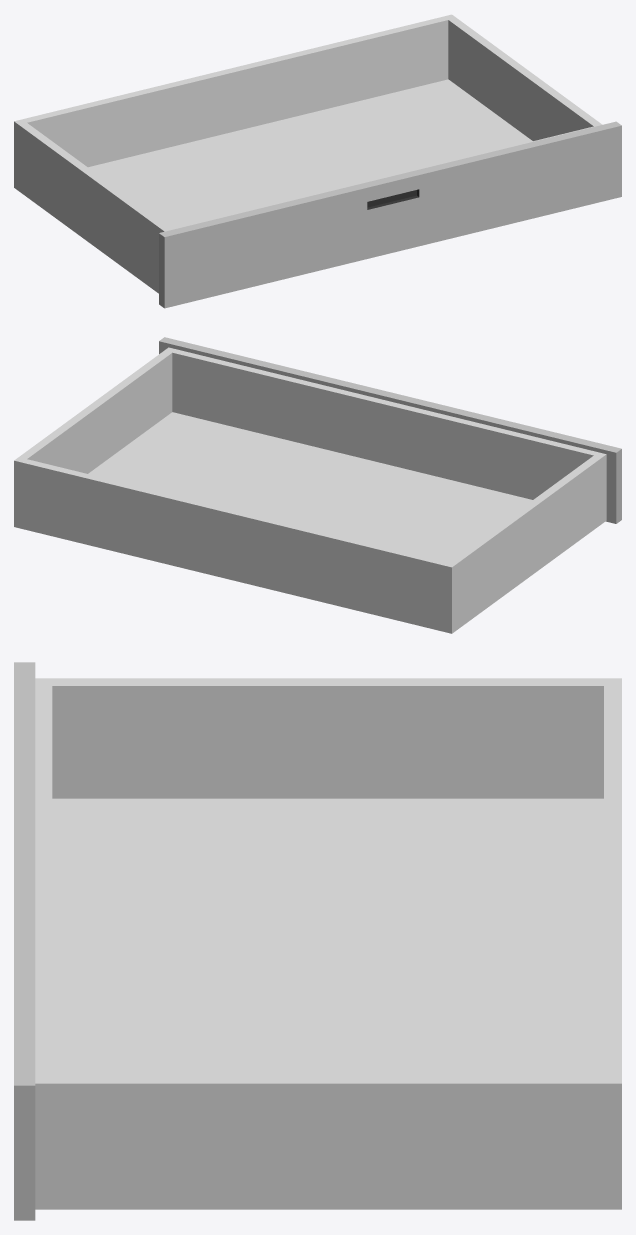
The model's file is PC_Table2_C1_02.fbx.
3 views of the same model, one above another, from view 1: azimuth 30°, elevation 25°; view 2: azimuth 150°, elevation 25°; view 3: azimuth 270°, elevation 25° (orthographic). The views are drawn at different scales.
Parts seen in each view (by area): view 1: PC_Table2_C1_02; view 2: PC_Table2_C1_02; view 3: PC_Table2_C1_02.
Part boxes in pixels (x1,y1,x2,y2): PC_Table2_C1_02: [14, 14, 621, 308]; PC_Table2_C1_02: [14, 337, 621, 633]; PC_Table2_C1_02: [14, 662, 621, 1220].
Bounding box in the file's own units: 94 × 14 × 57.05.
